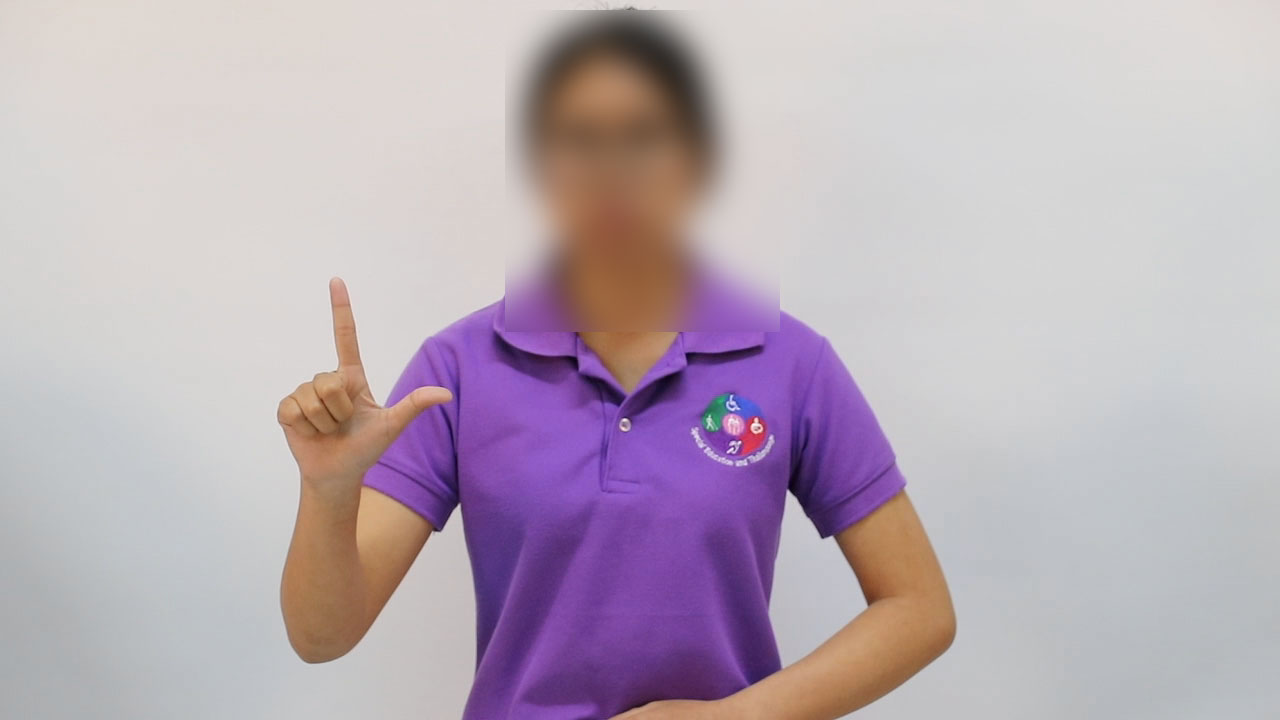lor: (264, 263, 453, 491)
